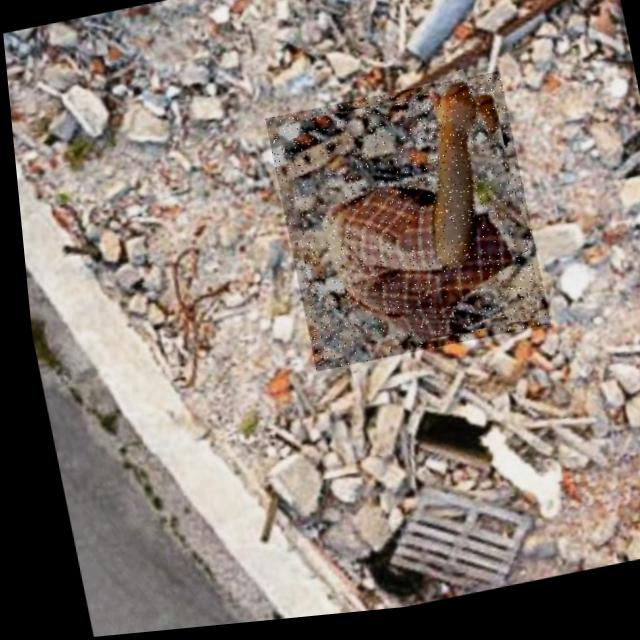Person in Rubble: (259, 78, 545, 378)
